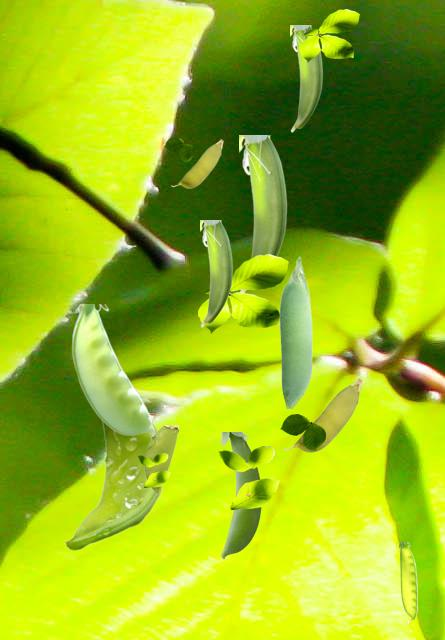pea: (63, 398, 163, 549), (71, 304, 153, 436), (239, 135, 287, 291), (283, 378, 361, 451), (221, 432, 260, 558), (279, 256, 311, 407), (290, 25, 323, 131), (200, 220, 233, 326), (171, 139, 222, 187), (144, 425, 177, 493), (399, 542, 416, 623)
